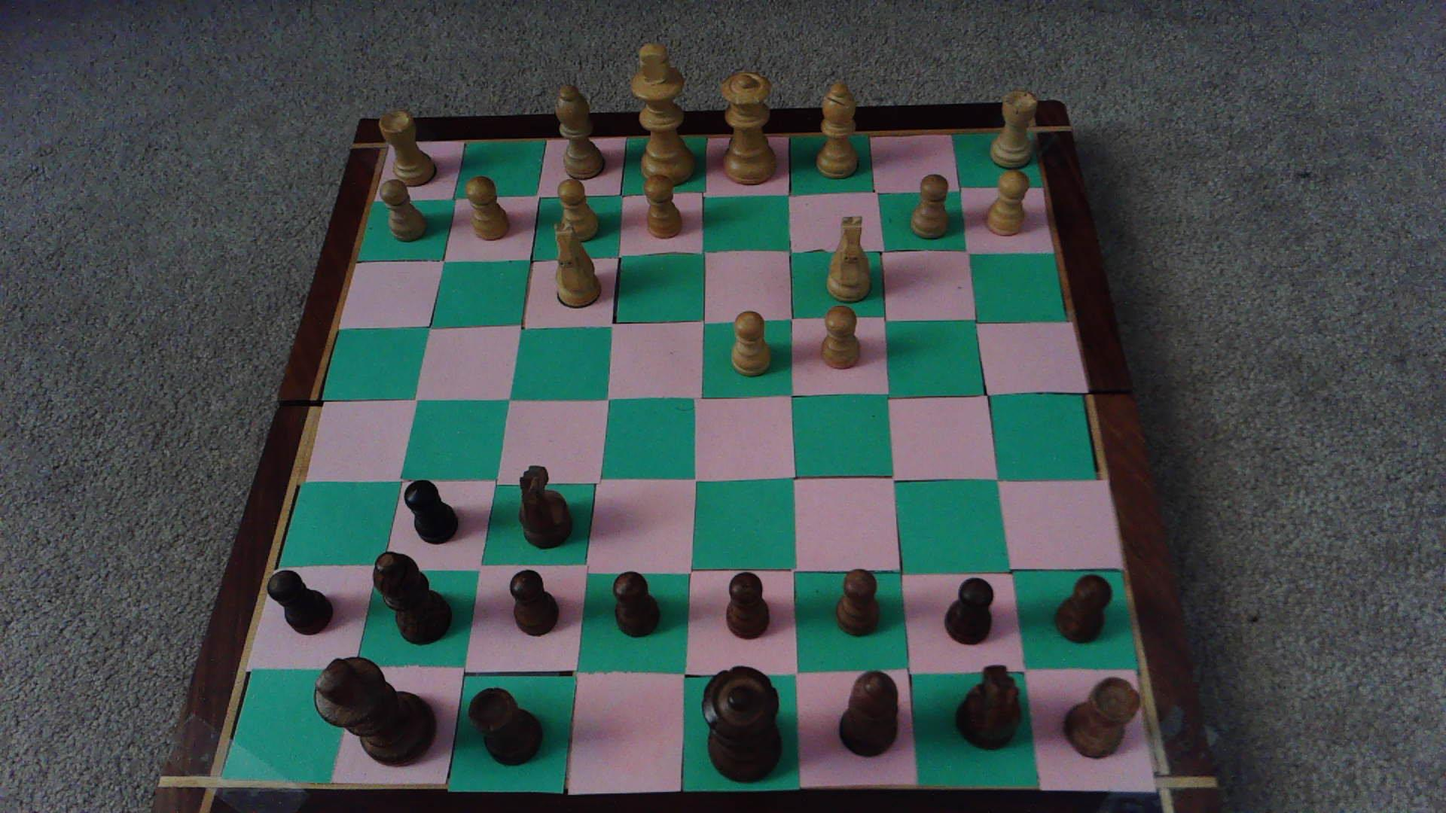dark_piece: (313, 656, 432, 764), (702, 666, 782, 782), (374, 553, 451, 644), (1064, 678, 1140, 757), (468, 687, 542, 765), (956, 665, 1021, 749), (839, 671, 898, 757), (520, 465, 572, 548), (267, 569, 333, 634), (1055, 574, 1112, 643), (403, 480, 456, 542), (944, 578, 993, 644), (510, 569, 558, 635), (612, 572, 659, 637), (836, 570, 879, 636), (726, 572, 769, 638)
white_piece: (632, 43, 696, 186), (721, 72, 774, 184), (556, 85, 604, 179), (379, 111, 435, 186), (553, 222, 601, 309), (816, 83, 858, 178), (827, 216, 871, 302), (989, 91, 1036, 169), (380, 177, 426, 240), (987, 170, 1029, 235), (466, 176, 508, 240), (557, 180, 599, 242), (731, 311, 770, 376), (821, 305, 859, 368), (643, 175, 681, 238), (911, 174, 947, 239)
